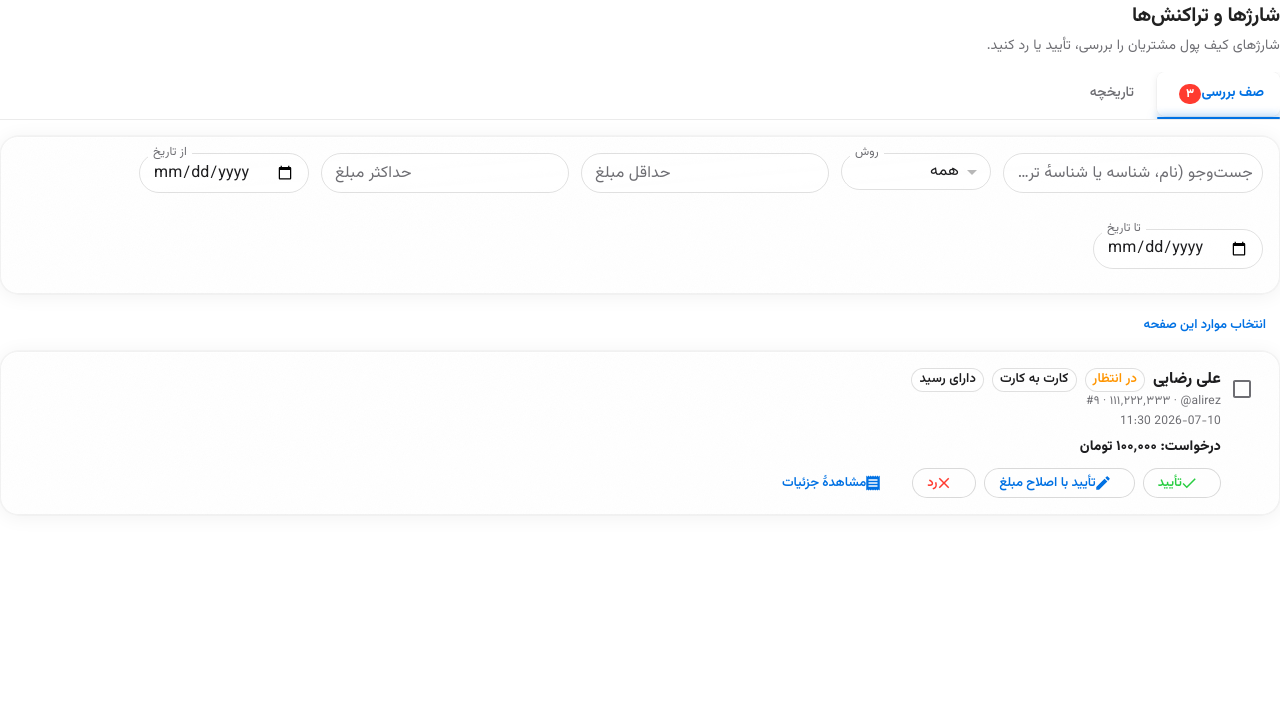
Test: storefront top-ups operations center › heals an already-decided confirm as a success message
The image size is (1280, 720).
Click the button "تأیید": (1182,483) [1143,468,1221,498]
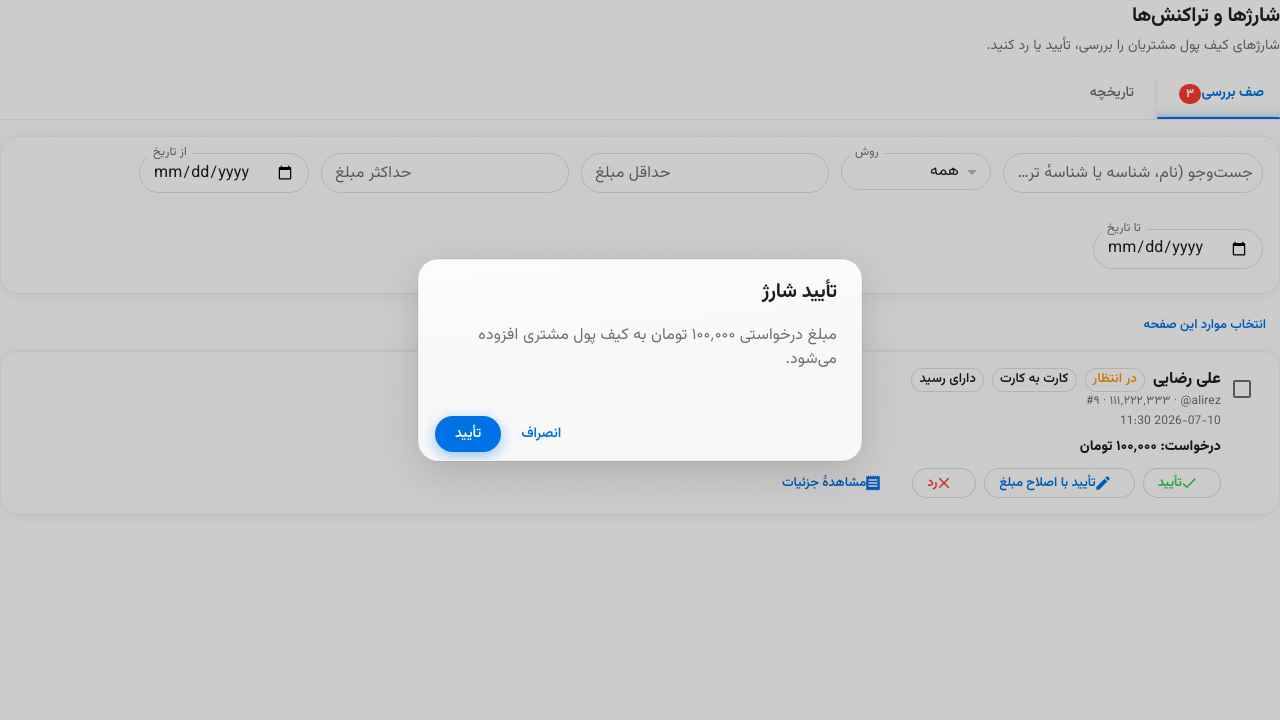
Click the button "تأیید": (468,434) [435,416,501,452]
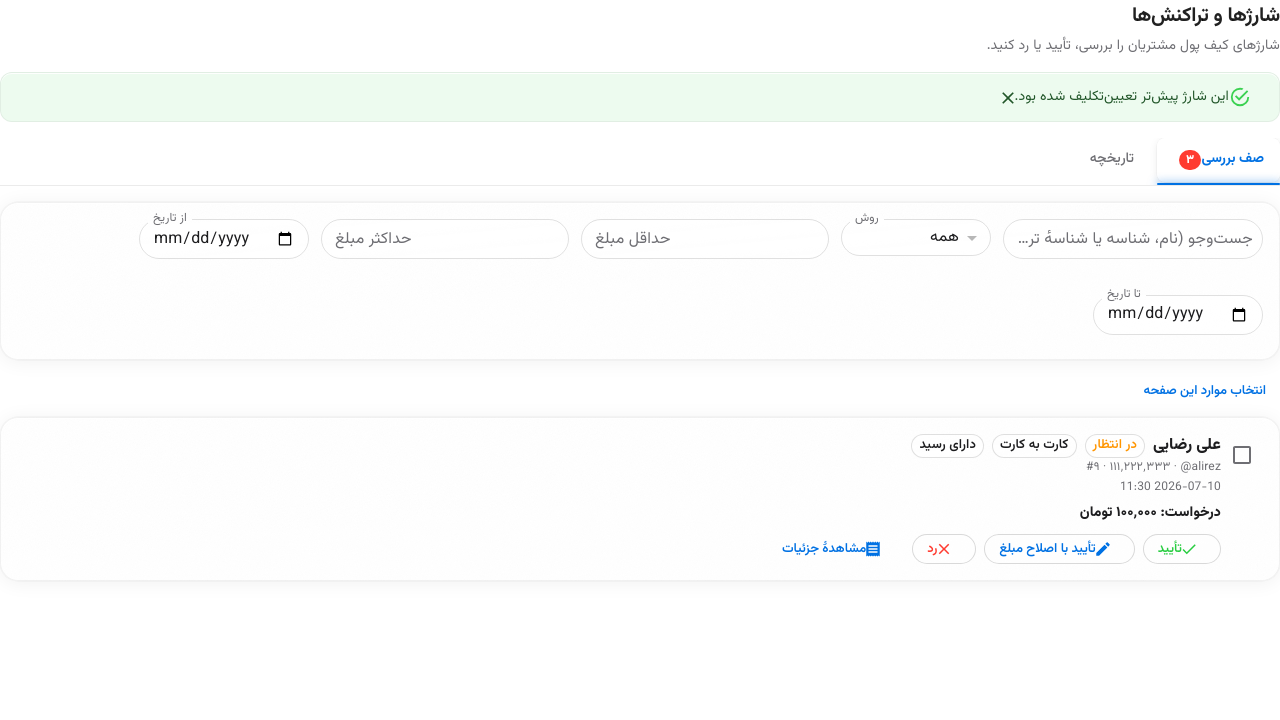
expect the text "این شارژ پیش‌تر تعیین‌تکلیف شده بود." is shown: met, box [1014,79,1229,115]
